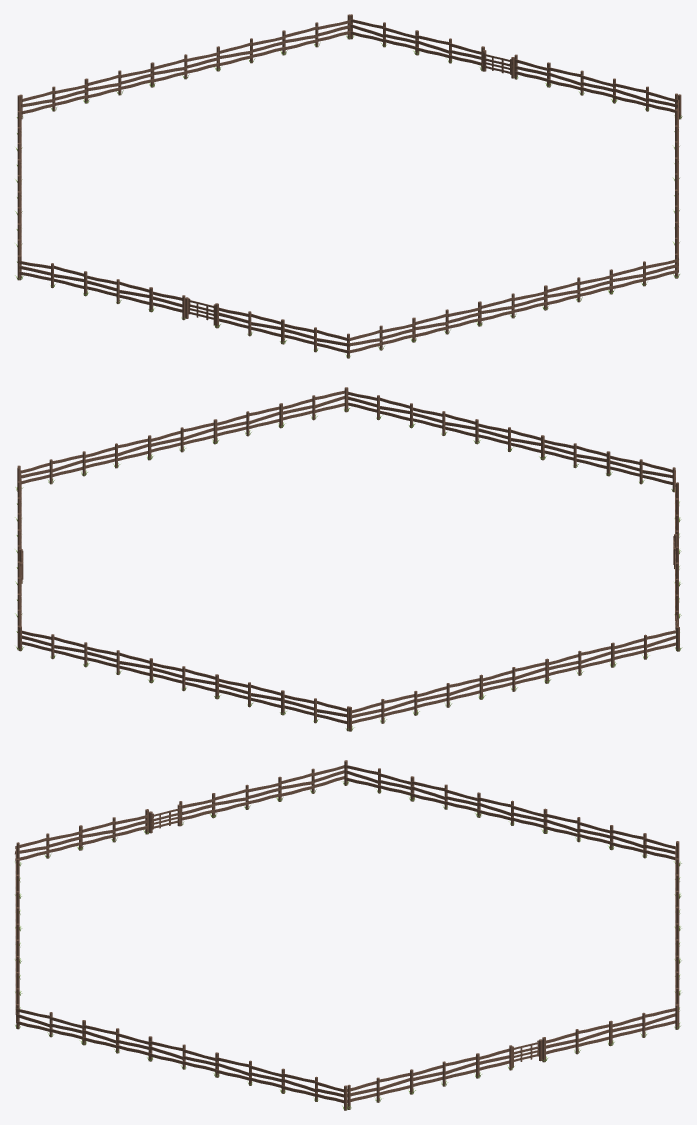
File: hex_fence.fbx
The picture shows the model from 3 angles, top to bottom: view 1: azimuth 30°, elevation 25°; view 2: azimuth 150°, elevation 25°; view 3: azimuth 270°, elevation 25°; orthographic projection.
Visible parts, largest first — view 1: Hex_Fence1; view 2: Hex_Fence1; view 3: Hex_Fence1.
Part boxes in pixels (bbox=[...]): Hex_Fence1: bbox=[15, 14, 682, 358]; Hex_Fence1: bbox=[15, 387, 682, 731]; Hex_Fence1: bbox=[14, 760, 681, 1110].
Bounding box in the file's own units: 126 × 4.28 × 109.
